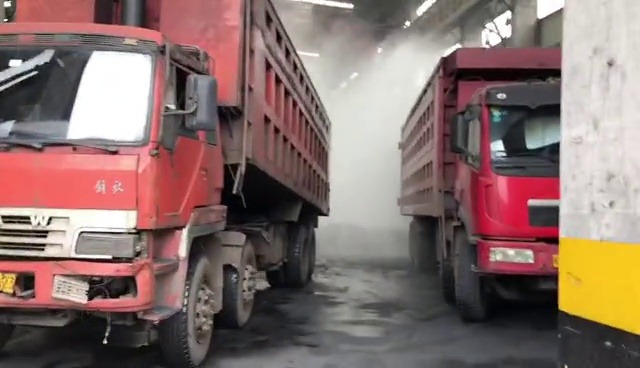dust: (313, 31, 451, 262)
truck: (0, 0, 335, 361), (394, 40, 564, 327)
